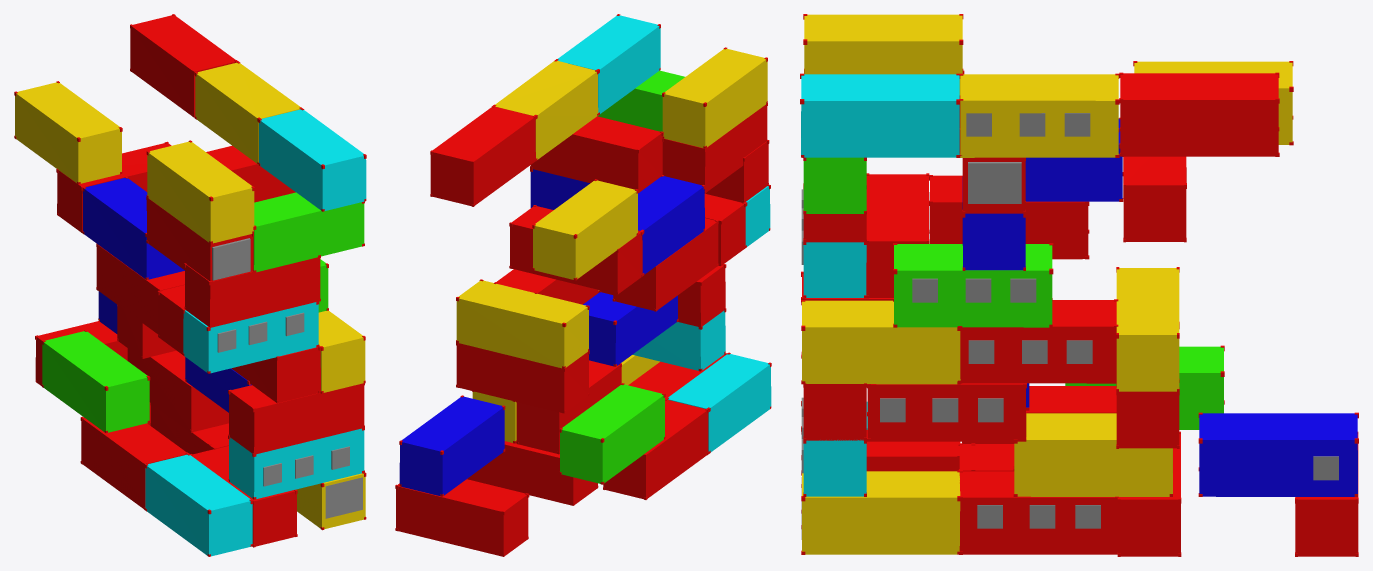
Rendered from ParentPart21FBX.FBX.
3 renders of one model, left to right at view 1: azimuth 30°, elevation 25°; view 2: azimuth 150°, elevation 25°; view 3: azimuth 270°, elevation 25°, orthographic. The views are drawn at different scales.
Parts seen in each view (by area): view 1: ParentPart21; view 2: ParentPart21; view 3: ParentPart21.
Part boxes in pixels (x1=…): ParentPart21: x1=14, y1=14, x2=366, y2=556; ParentPart21: x1=395, y1=14, x2=771, y2=556; ParentPart21: x1=800, y1=14, x2=1358, y2=556.
Bounding box in the file's own units: 3.19 × 7.23 × 6.51.
